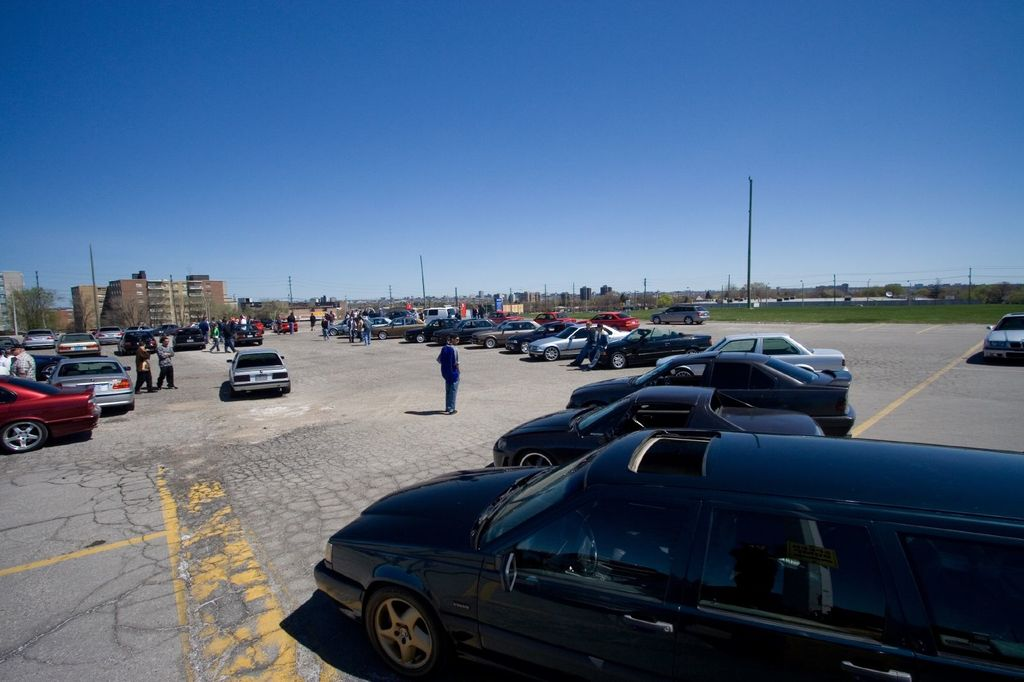Car: (323, 301, 851, 443), (490, 383, 828, 465), (0, 374, 96, 452), (49, 348, 136, 418), (110, 318, 291, 351), (227, 347, 291, 399), (979, 316, 1023, 364), (53, 329, 107, 359), (653, 305, 717, 322), (24, 332, 55, 347)
